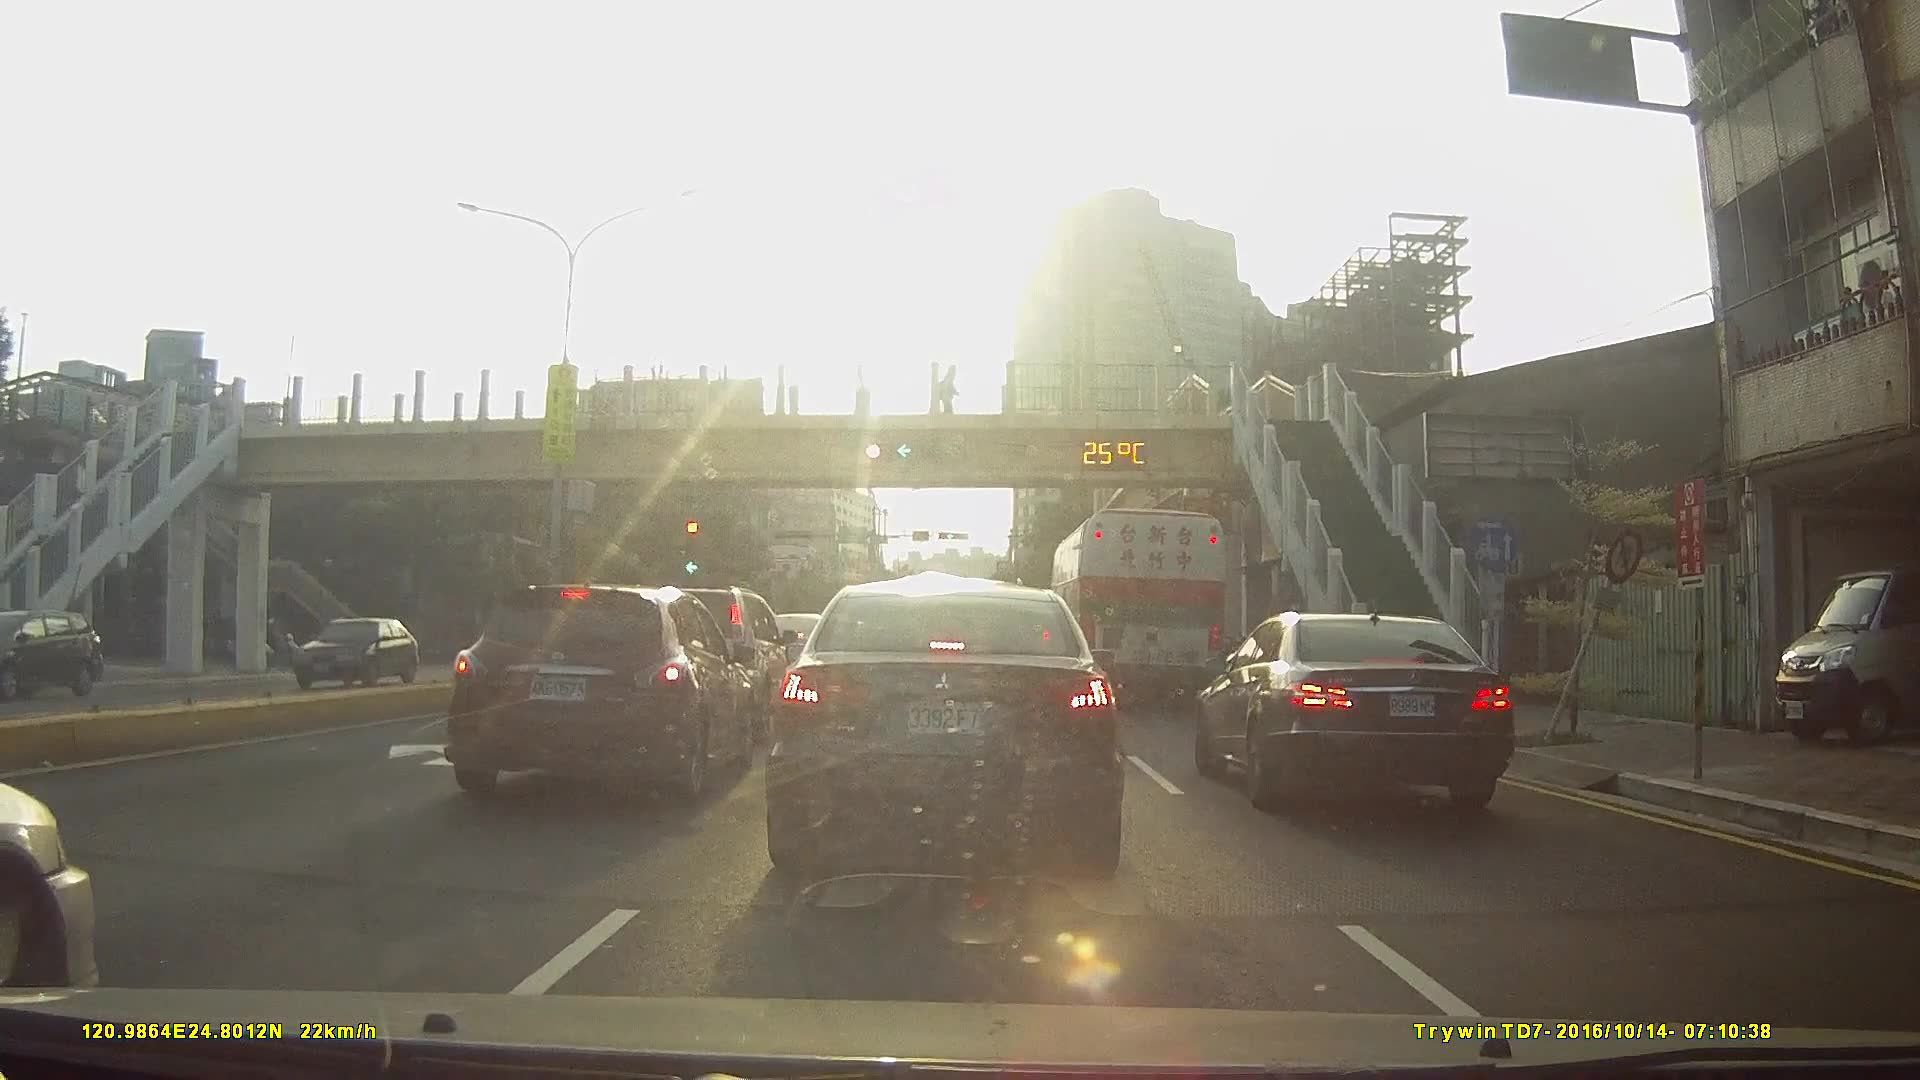pedestrian: (937, 365, 959, 413)
vehicle: (759, 575, 1129, 876), (439, 579, 758, 804), (1189, 605, 1511, 818), (1050, 506, 1228, 703), (280, 613, 411, 688), (0, 605, 102, 699)
